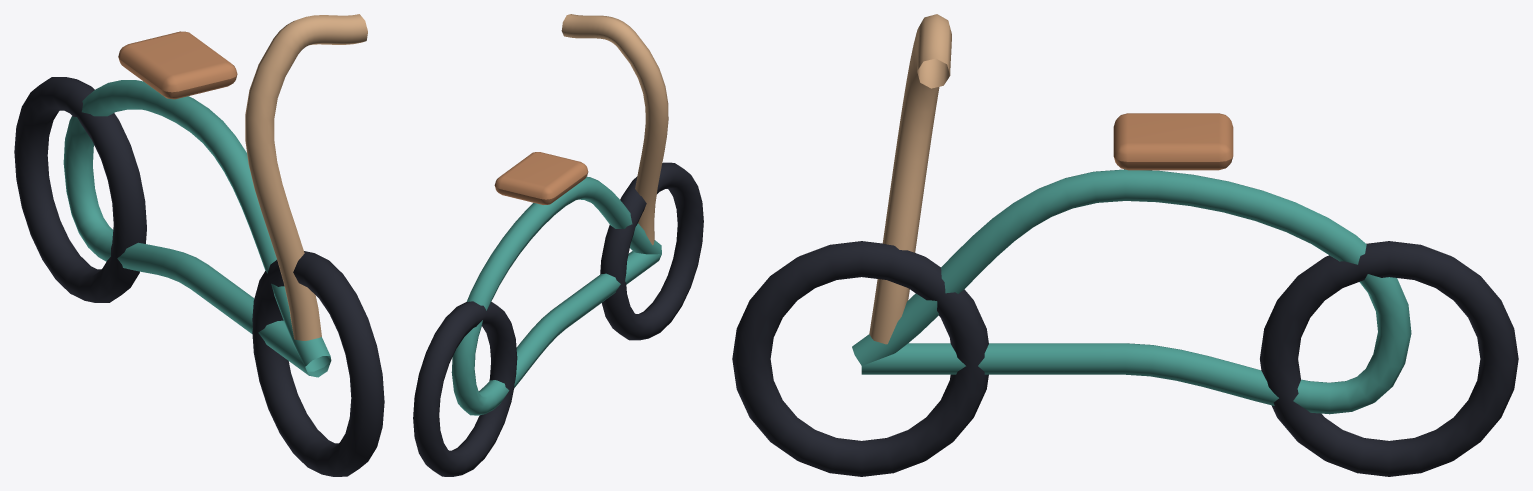
The model's file is word-bicycle.glb.
3 renders of one model, left to right at view 1: azimuth 30°, elevation 25°; view 2: azimuth 150°, elevation 25°; view 3: azimuth 270°, elevation 25°, orthographic. The views are drawn at different scales.
Visible parts, largest first — view 1: frame, wheel.001, wheel, handlebar, saddle; view 2: frame, wheel.001, wheel, handlebar, saddle; view 3: frame, wheel, wheel.001, handlebar, saddle.
Part boxes in pixels (<box>): frame: <box>63,80,331,377</box>; wheel.001: <box>14,77,146,302</box>; wheel: <box>252,251,384,476</box>; handlebar: <box>245,14,367,340</box>; saddle: <box>118,31,237,99</box>; frame: <box>451,176,661,415</box>; wheel.001: <box>413,301,517,476</box>; wheel: <box>600,162,703,340</box>; handlebar: <box>561,14,668,245</box>; saddle: <box>494,152,588,204</box>; frame: <box>852,169,1411,414</box>; wheel: <box>732,241,988,476</box>; wheel.001: <box>1260,241,1518,476</box>; handlebar: <box>869,14,951,344</box>; saddle: <box>1113,113,1233,170</box>.
Bounding box in the file's own units: 0.3218 × 1.08 × 1.64.
